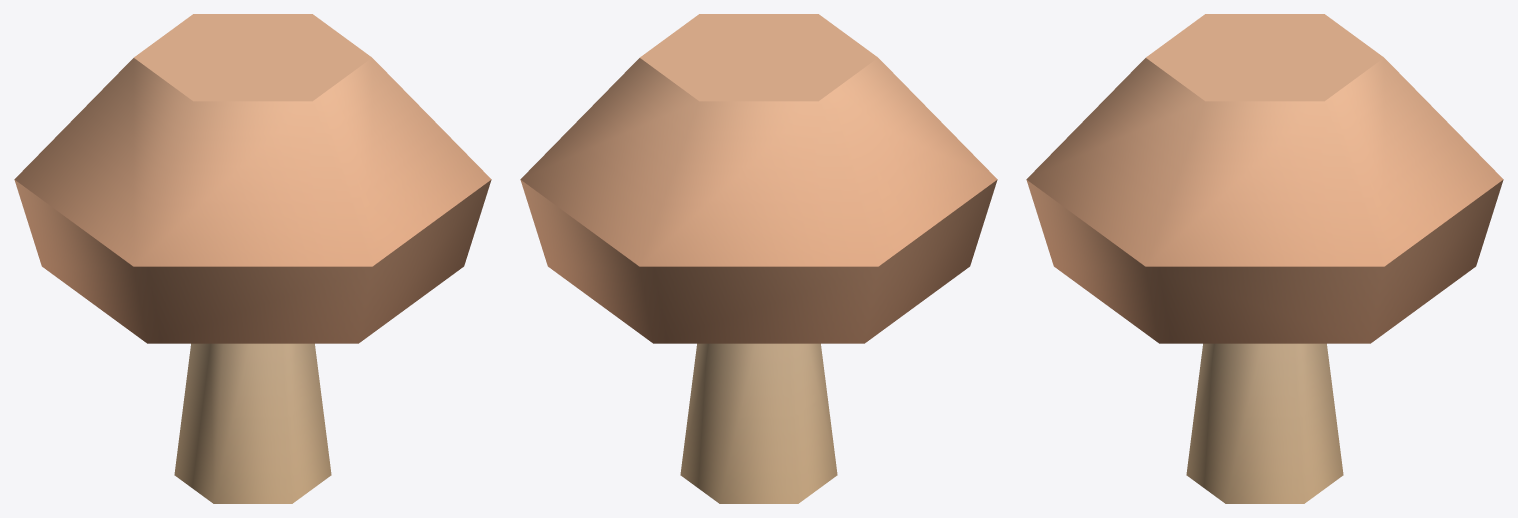
Rendered from mushroom.glb.
The picture shows the model from 3 angles, left to right: view 1: azimuth 30°, elevation 25°; view 2: azimuth 150°, elevation 25°; view 3: azimuth 270°, elevation 25°; orthographic projection.
Parts seen in each view (by area): view 1: mushroom; view 2: mushroom; view 3: mushroom.
Part boxes in pixels (left/top/right/bottom): mushroom: left=14, top=14, right=491, bottom=503; mushroom: left=520, top=14, right=997, bottom=503; mushroom: left=1026, top=14, right=1503, bottom=503.
Size of the model in its own units: 0.1249 by 0.1392 by 0.1442.
Materials: 1 (1 with a texture image).
